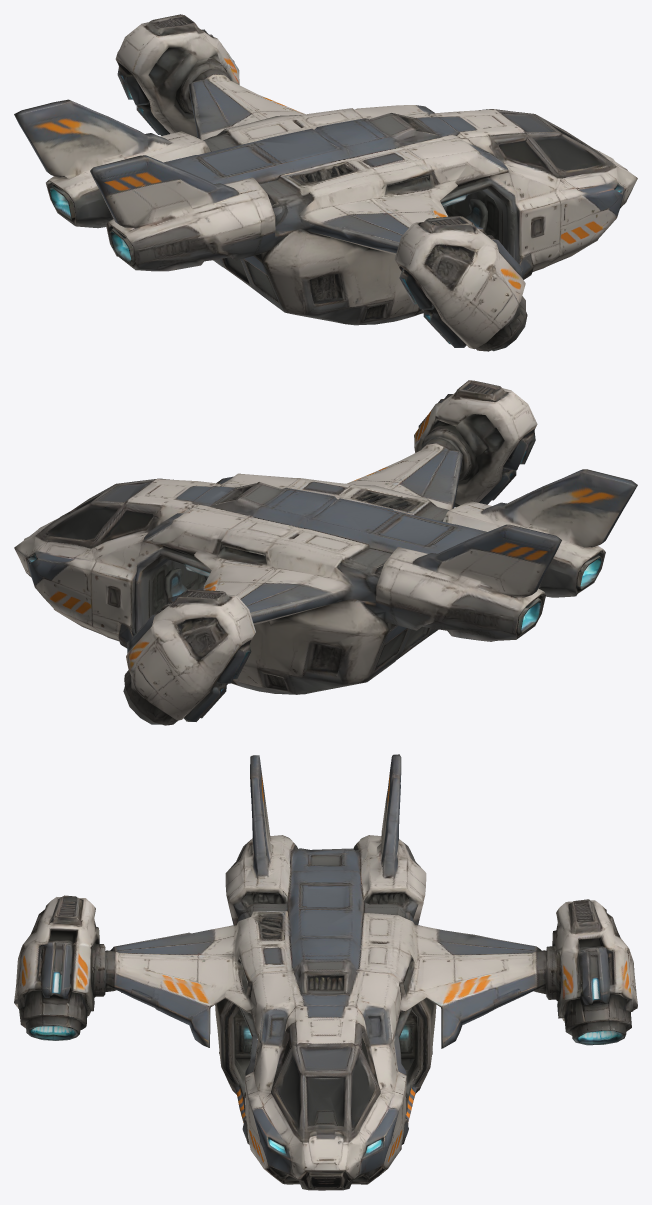
The model's file is prop_ship.glb.
3 views of the same model, one above another, from view 1: azimuth 30°, elevation 25°; view 2: azimuth 150°, elevation 25°; view 3: azimuth 270°, elevation 25° (orthographic). The views are drawn at different scales.
Visible parts, largest first — view 1: tripo_node_cf4c043b-04a6-447c-9ecd-234b27072699; view 2: tripo_node_cf4c043b-04a6-447c-9ecd-234b27072699; view 3: tripo_node_cf4c043b-04a6-447c-9ecd-234b27072699.
Boxes of the visible parts, left/top/right/bottom form: tripo_node_cf4c043b-04a6-447c-9ecd-234b27072699: left=14, top=14, right=637, bottom=351; tripo_node_cf4c043b-04a6-447c-9ecd-234b27072699: left=14, top=380, right=637, bottom=725; tripo_node_cf4c043b-04a6-447c-9ecd-234b27072699: left=14, top=754, right=637, bottom=1190.
Bounding box in the file's own units: 0.9875 × 0.3595 × 1.
Materials: 1 (1 with a texture image).
